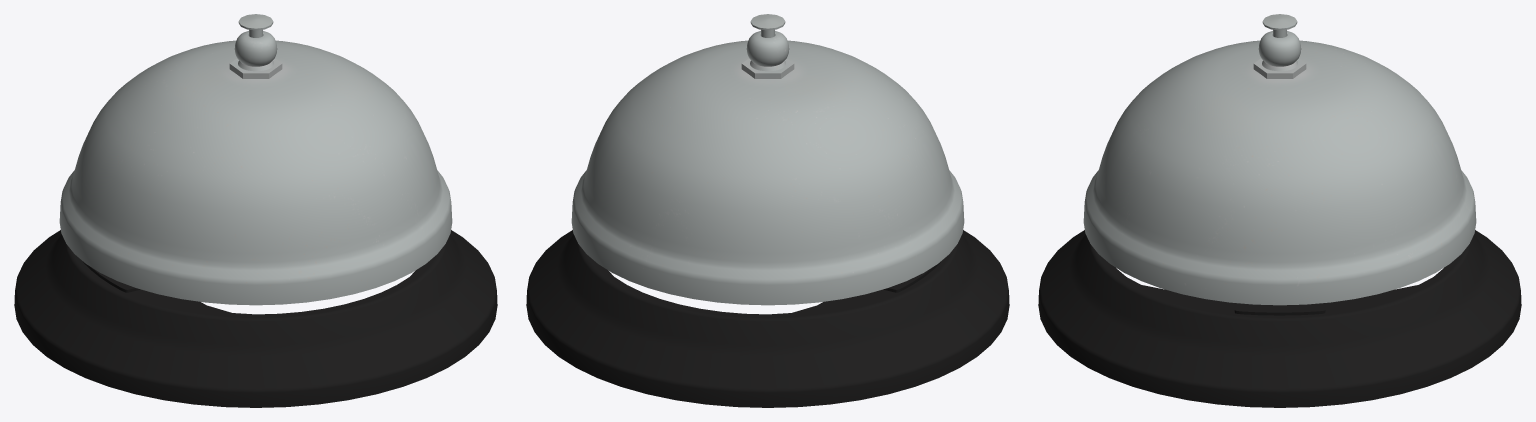
Rendered from table_bell.glb.
3 renders of one model, left to right at view 1: azimuth 30°, elevation 25°; view 2: azimuth 150°, elevation 25°; view 3: azimuth 270°, elevation 25°, orthographic.
Parts seen in each view (by area): view 1: Dome, Base, Screw, Button; view 2: Dome, Base, Screw, Button; view 3: Dome, Base, Screw, Connectors, Button.
Boxes of the visible parts, <box> form: Dome: <box>59,40,452,305</box>; Base: <box>14,230,497,407</box>; Screw: <box>229,31,282,78</box>; Button: <box>238,14,273,37</box>; Dome: <box>571,40,964,305</box>; Base: <box>526,230,1009,407</box>; Screw: <box>741,31,794,78</box>; Button: <box>750,14,785,37</box>; Dome: <box>1083,40,1476,305</box>; Base: <box>1038,230,1521,407</box>; Screw: <box>1253,31,1306,78</box>; Connectors: <box>1234,303,1325,315</box>; Button: <box>1262,14,1297,37</box>.
Bounding box in the file's own units: 85.85 × 56.23 × 85.85.
2 materials, 2 textured.
